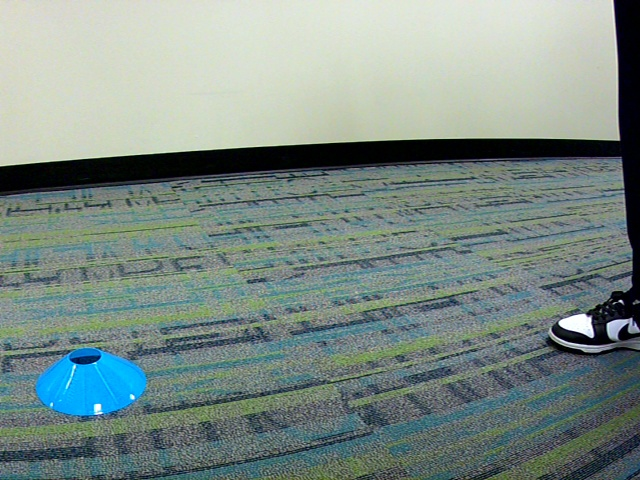cone: (34, 347, 148, 416)
